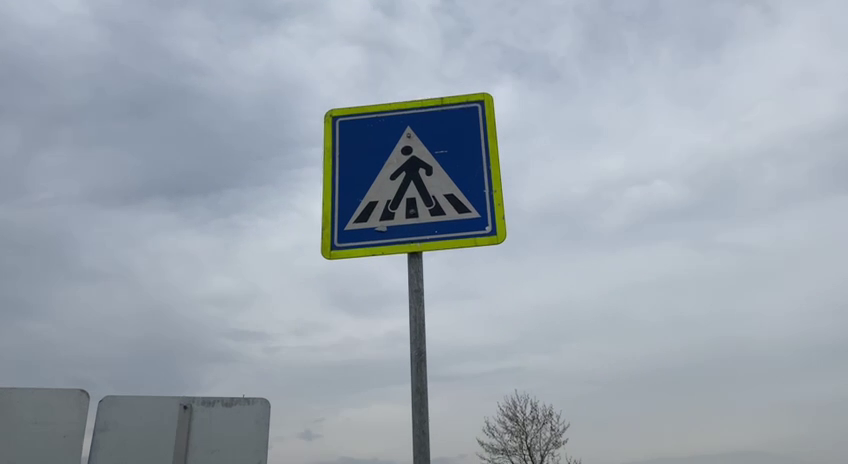pedestrianCrossing: (317, 91, 508, 260)
